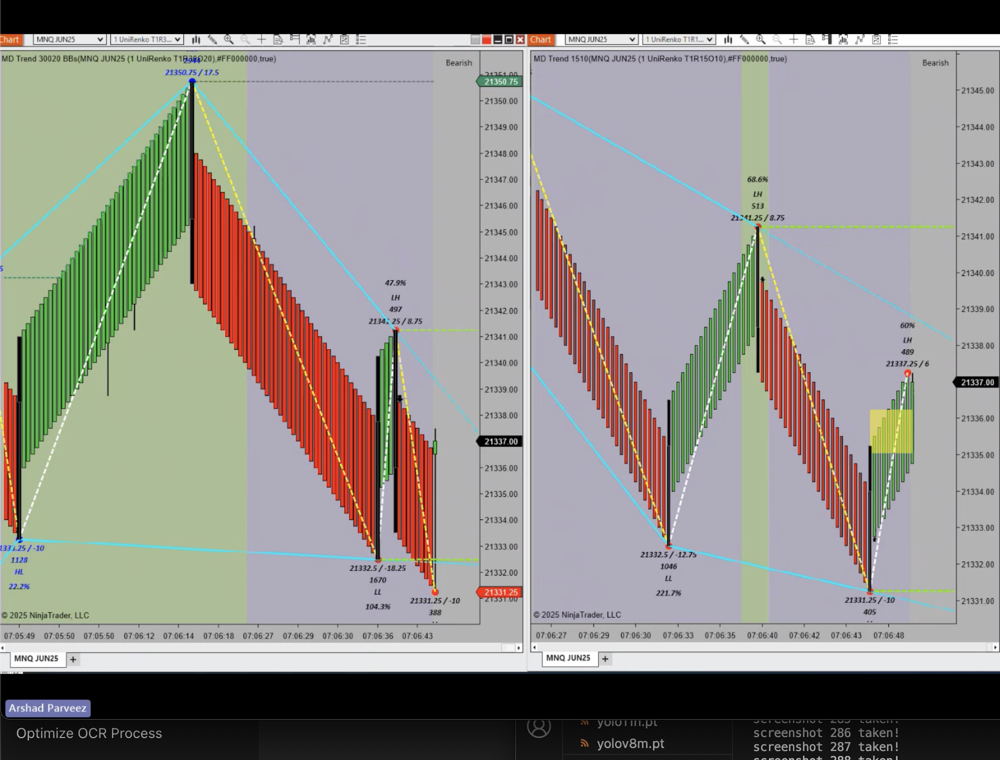HL: (9, 560, 34, 582)
LH: (900, 330, 927, 353), (749, 185, 773, 203), (388, 285, 407, 304)
LL: (364, 583, 390, 603), (659, 569, 679, 584)
